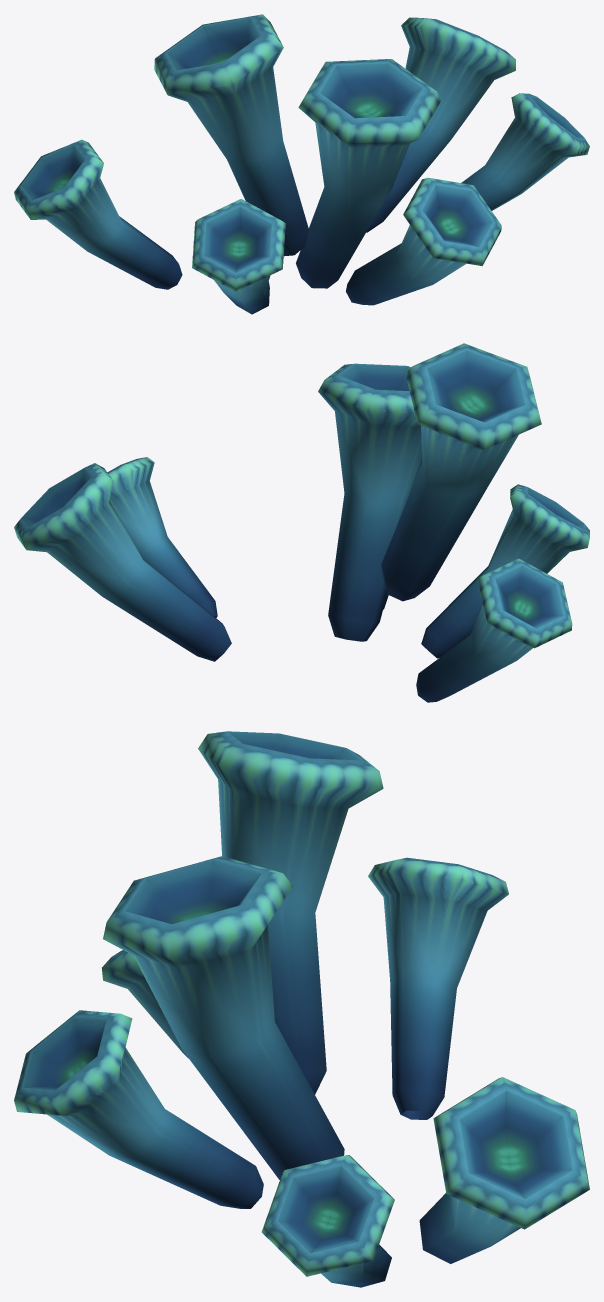
The model's file is Coral_14b.FBX.
3 views of the same model, one above another, from view 1: azimuth 30°, elevation 25°; view 2: azimuth 150°, elevation 25°; view 3: azimuth 270°, elevation 25° (orthographic). The views are drawn at different scales.
Visible parts, largest first — view 1: Coral_14b; view 2: Coral_14b; view 3: Coral_14b.
Part boxes in pixels (<box>): Coral_14b: <box>14,14,589,314</box>; Coral_14b: <box>14,343,589,702</box>; Coral_14b: <box>14,731,589,1287</box>.
Size of the model in its own units: 29.12 by 15.74 by 20.54.
